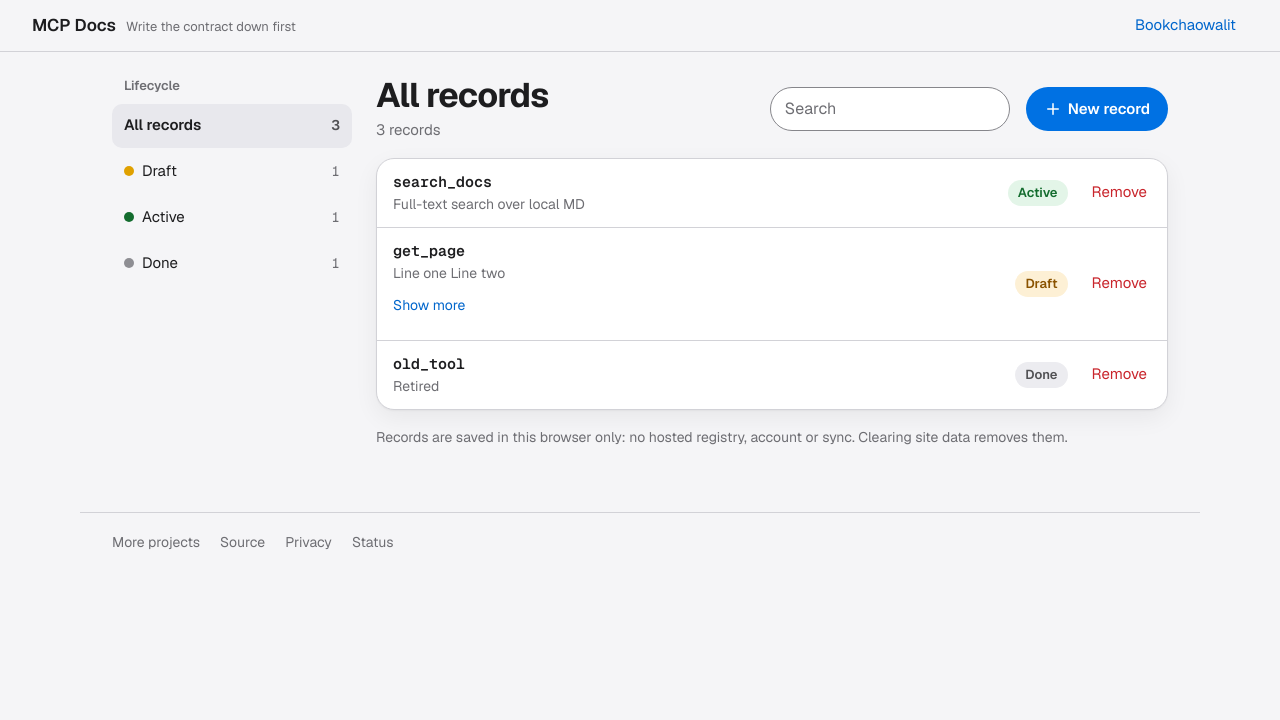
Test: remove and undo › Escape dismisses the toast
Click the button with aria-label "Remove old_tool": (1119, 375) [1080,353,1159,397]
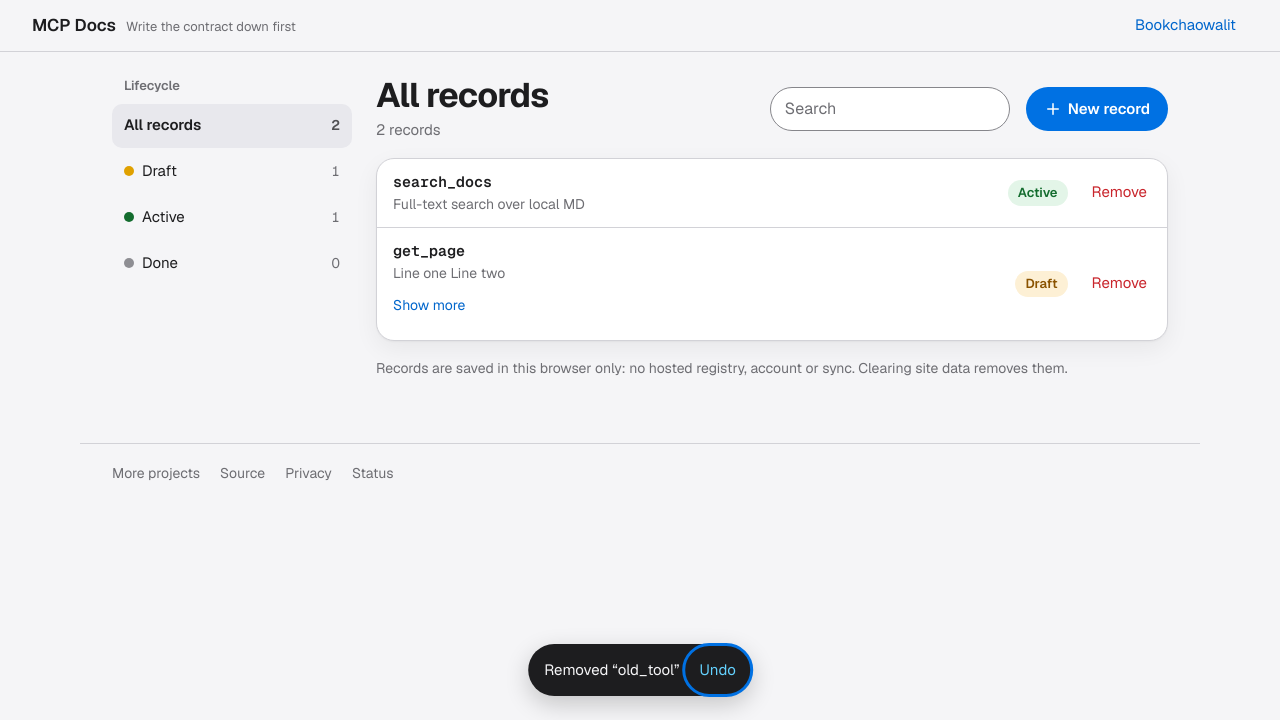
Press Escape in the element with class "as-toast", box [528,644,752,696]
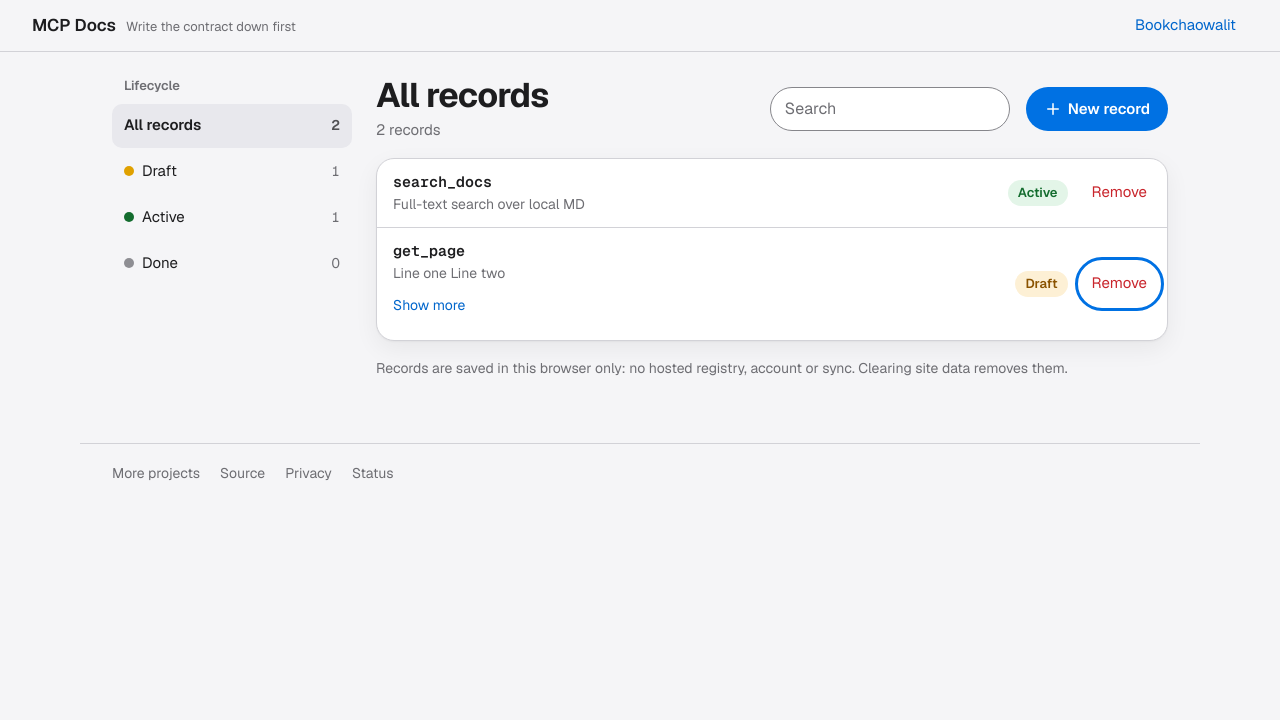
Now the element with class "as-toast" is gone
